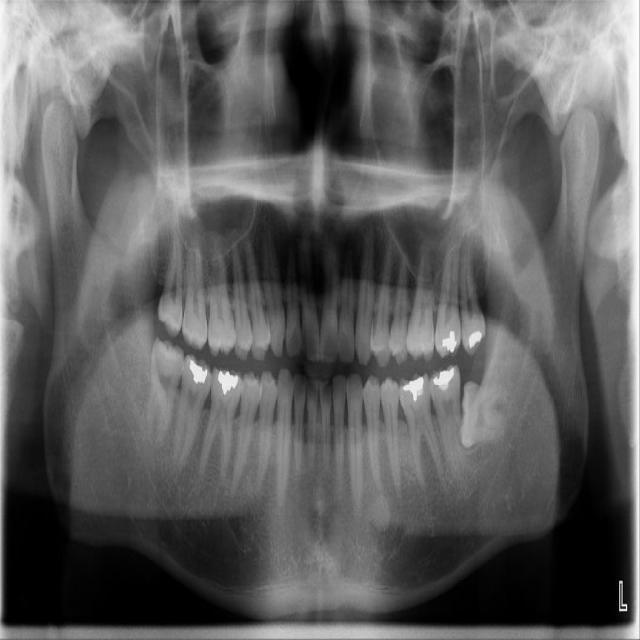3M ESPE Implant: (157, 229, 183, 338)
52: (175, 353, 219, 400), (423, 363, 466, 406), (458, 312, 490, 357), (398, 372, 432, 414), (211, 367, 243, 408), (435, 315, 461, 357)
BioHorizons Implant: (433, 241, 472, 360)
BioLife Implant: (457, 251, 487, 355)
Biomet 3i Implant: (458, 380, 507, 451)
Blue Sky Bio Implant: (427, 363, 466, 478)
Caries: (175, 247, 210, 353)
Implant: (169, 353, 216, 470)
Keystone Dental Implant: (144, 336, 187, 448)
